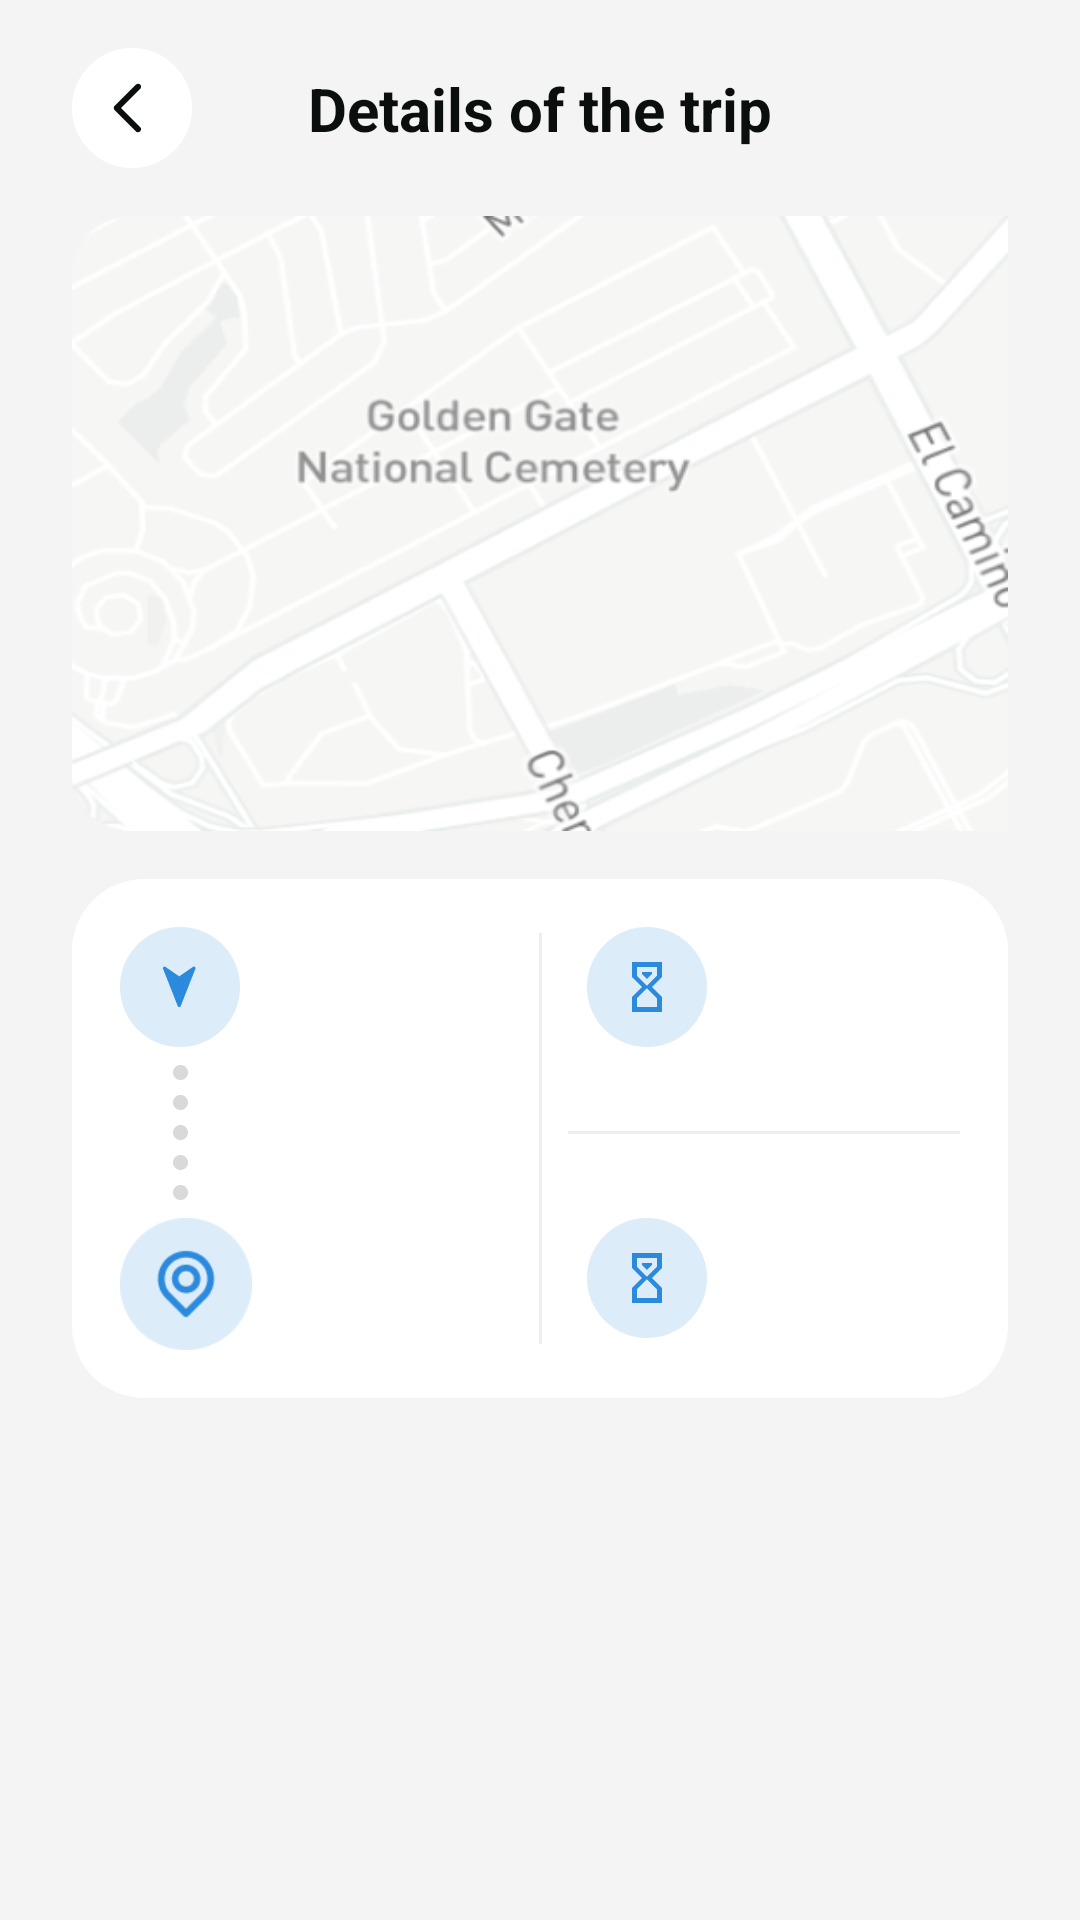

Point at icon controls on the screen. Image size 1080w x 1920h, points as (x,y).
history detail nav: (180,987), (647,987), (647,1278)
